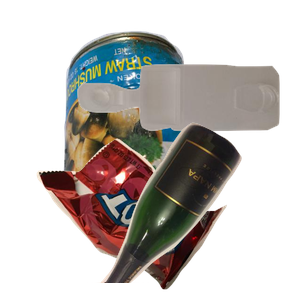glass: (87, 120, 300, 300)
metal: (60, 28, 300, 208)
plastic: (75, 62, 300, 186)
trash: (34, 136, 253, 300)
